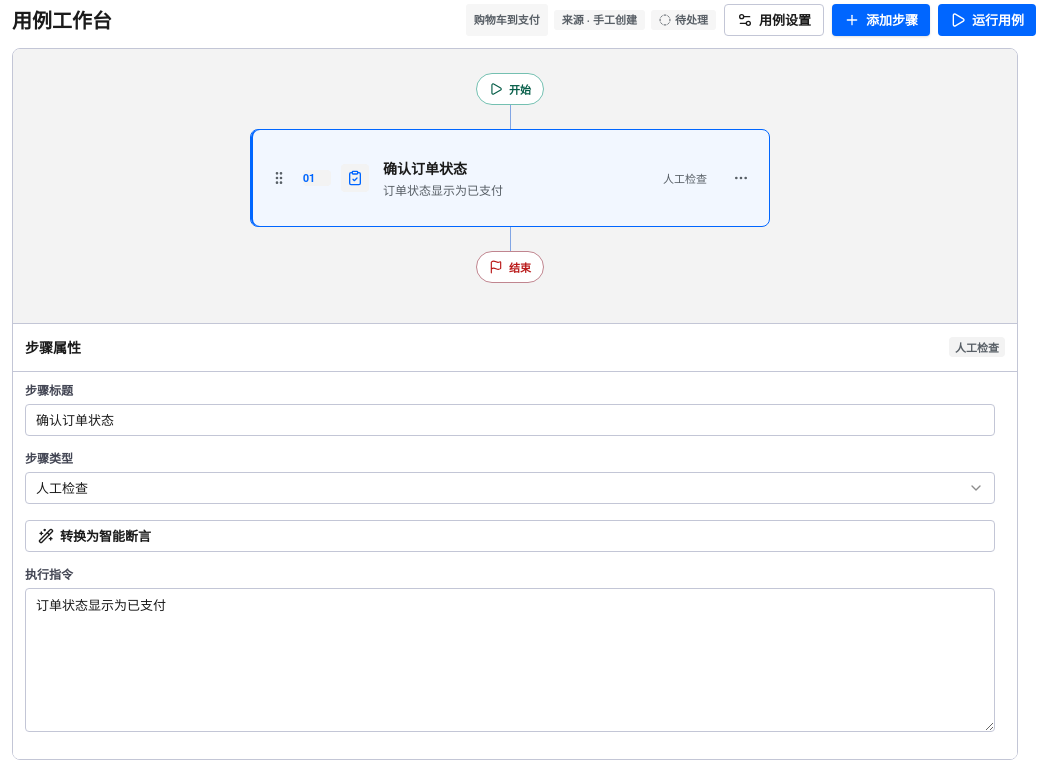
Scenario: TestCaseManagementPage › converts a manual check into an editable AI assertion
Click the button "转换为智能断言" at (106, 535), box 25,520 -> 995,552
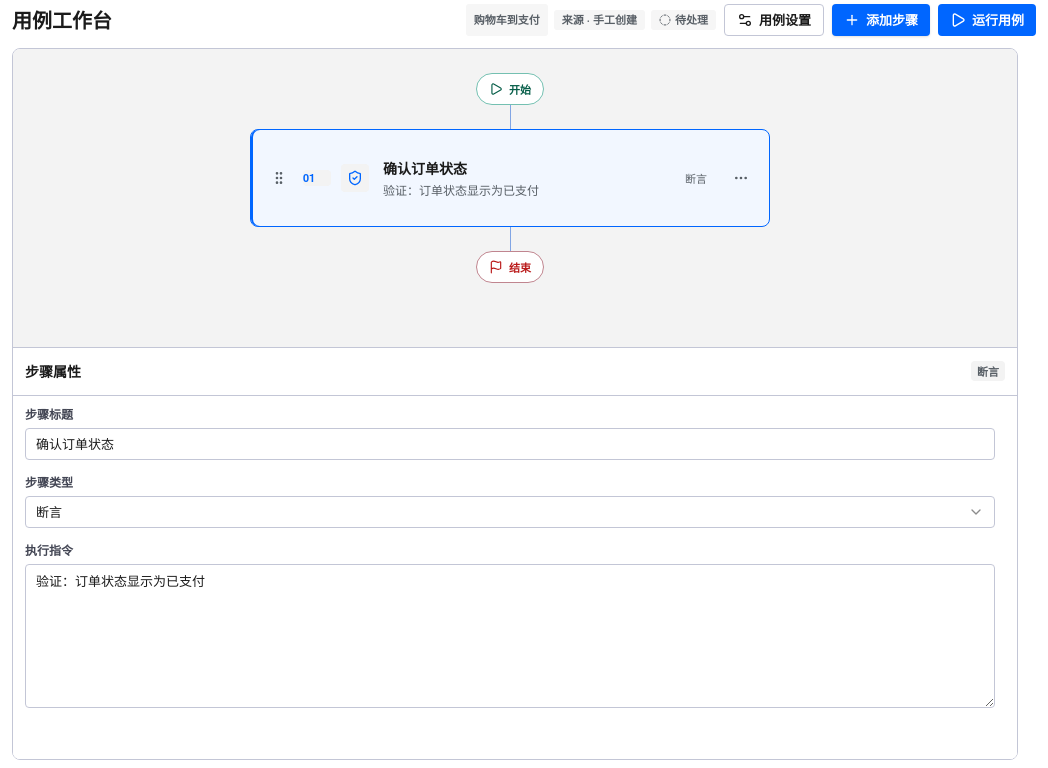
Expected: the dropdown named "步骤类型" reads "断言", 25,496 -> 995,528
Expected: the text box labelled "执行指令" holds "验证：订单状态显示为已支付", 25,564 -> 995,708
